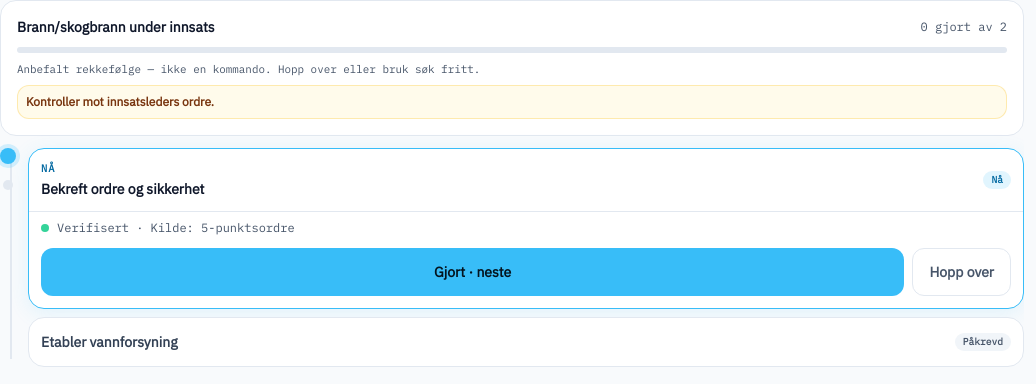
Test: persists a skipped step without marking it done
Click the button "Hopp over": (962, 272) [912, 248, 1011, 296]
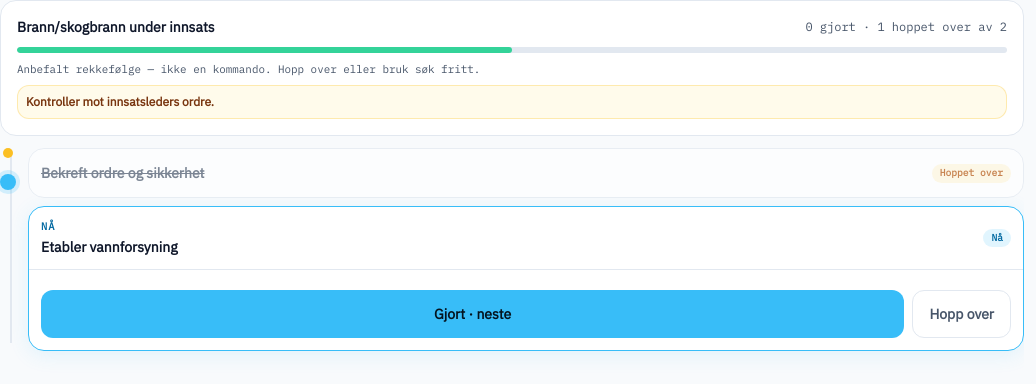
Now the text "Hoppet over" is shown, box [932, 164, 1011, 182]
